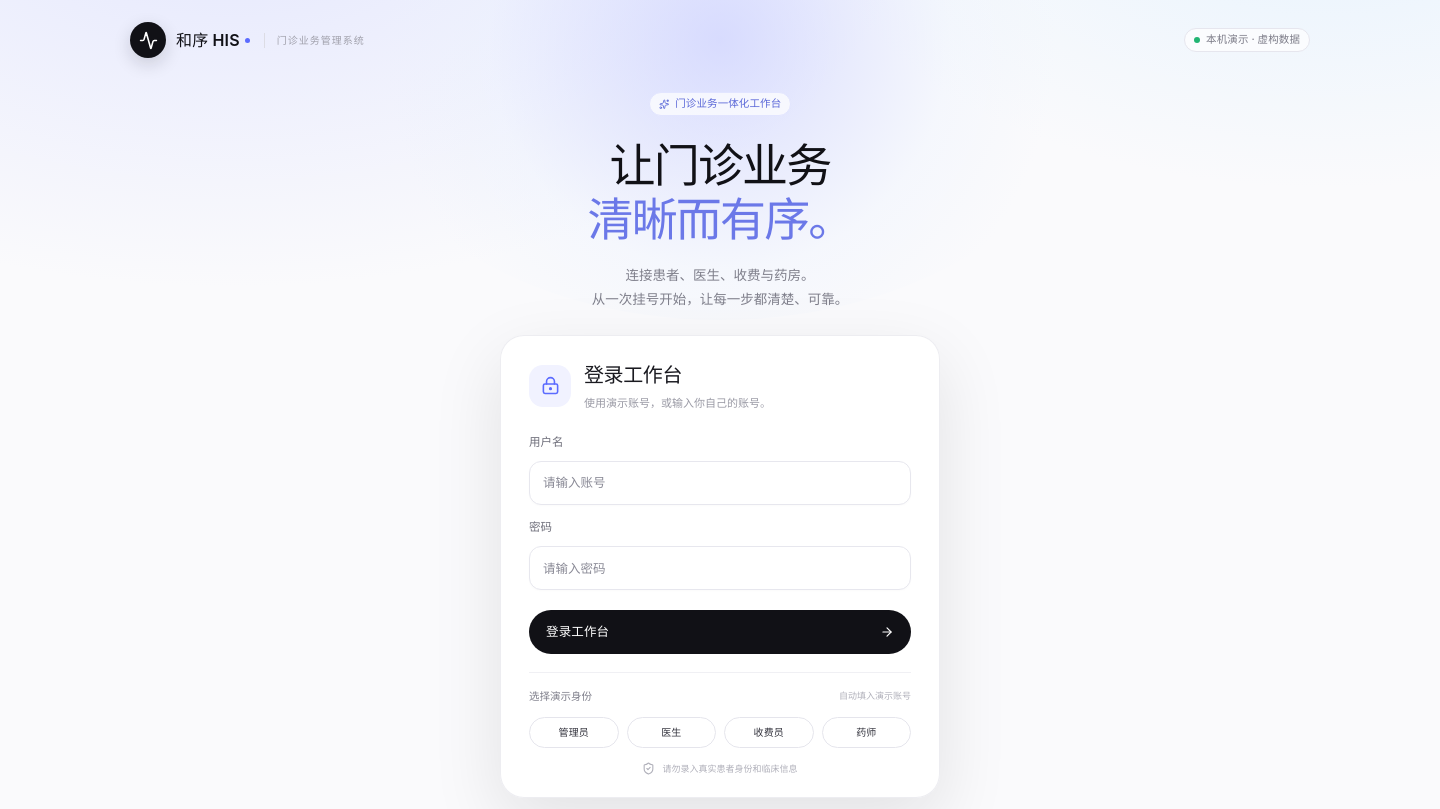
Test: LoginPage › shows the backend error and does not fabricate a successful login
Type "demo" into the field labelled "用户名".
click(720, 483); type("demo")  # box x1=529 y1=461 x2=911 y2=505
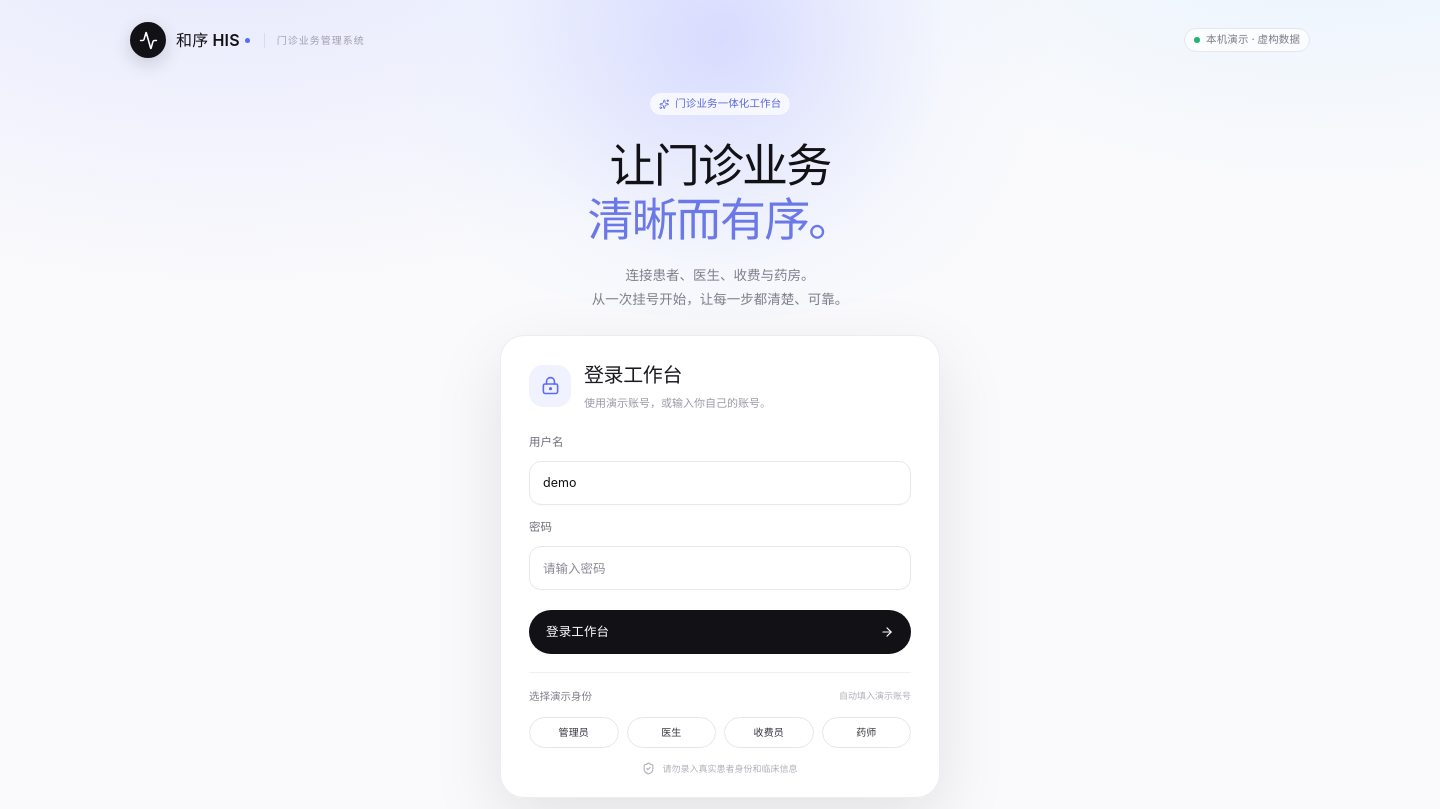
Type "wrong" into the password field labelled "密码".
click(720, 568); type("wrong")  # box x1=529 y1=546 x2=911 y2=590
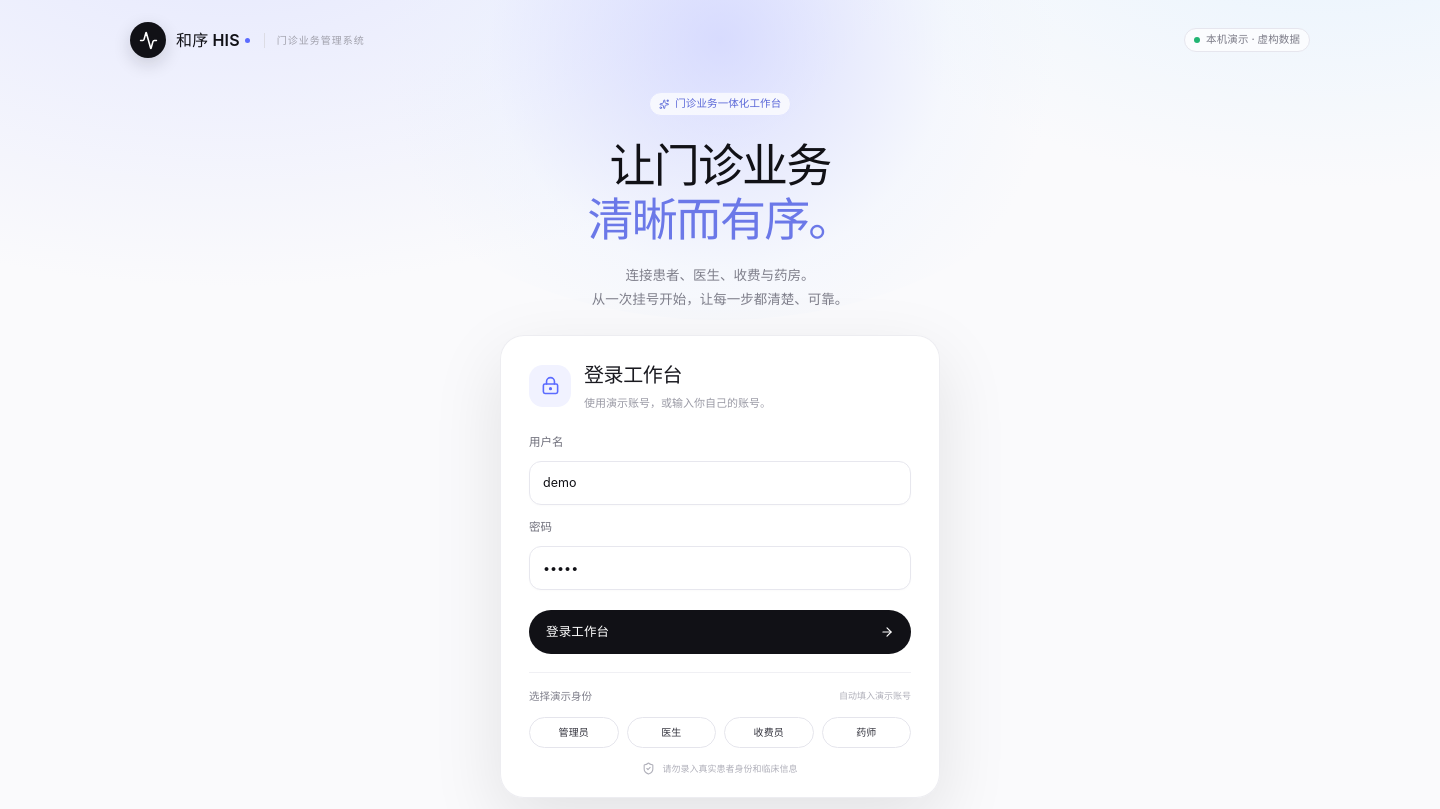
Click the button "登录工作台".
click(578, 631)  # box x1=529 y1=610 x2=911 y2=654
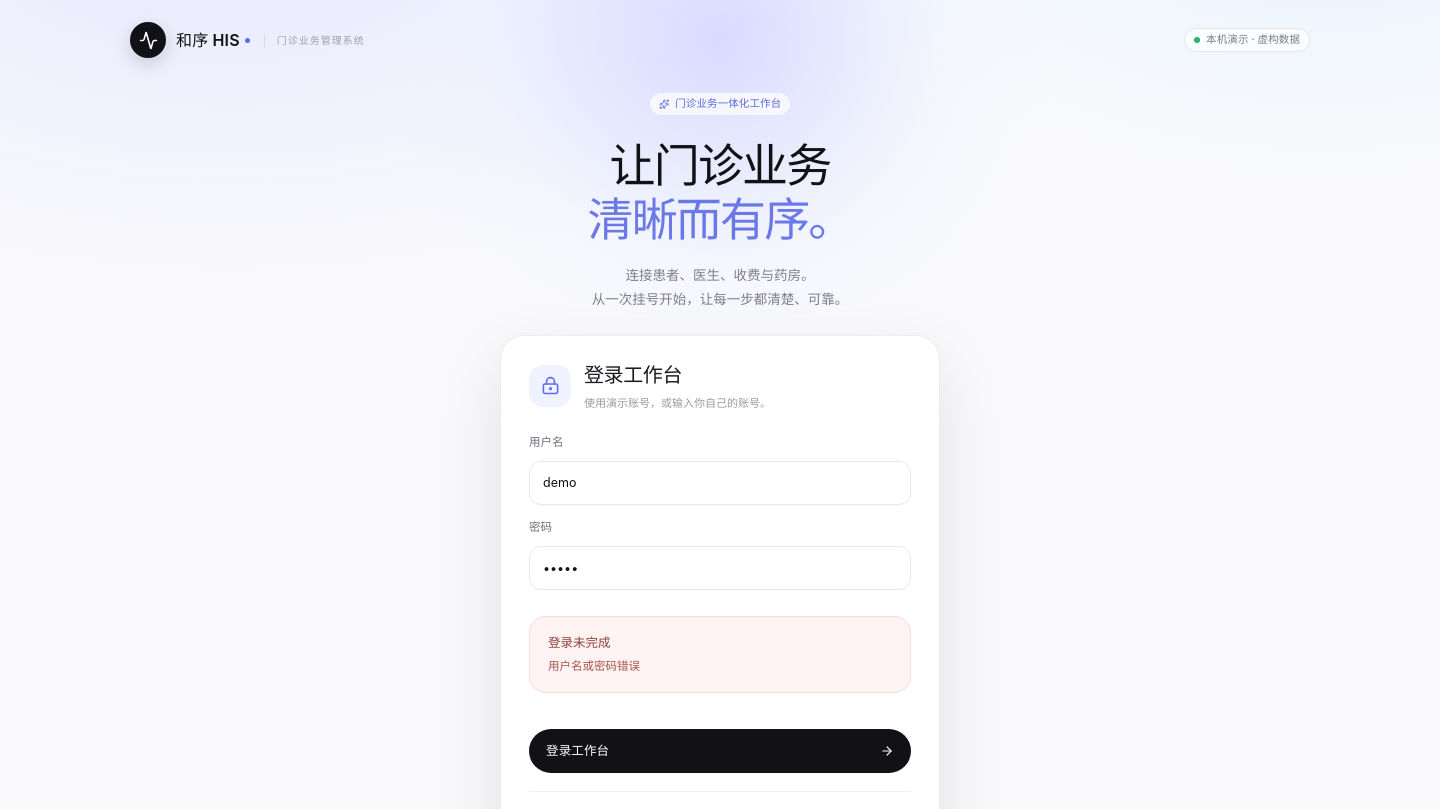
Expected: the message shows "用户名或密码错误", x1=548 y1=659 x2=640 y2=673
